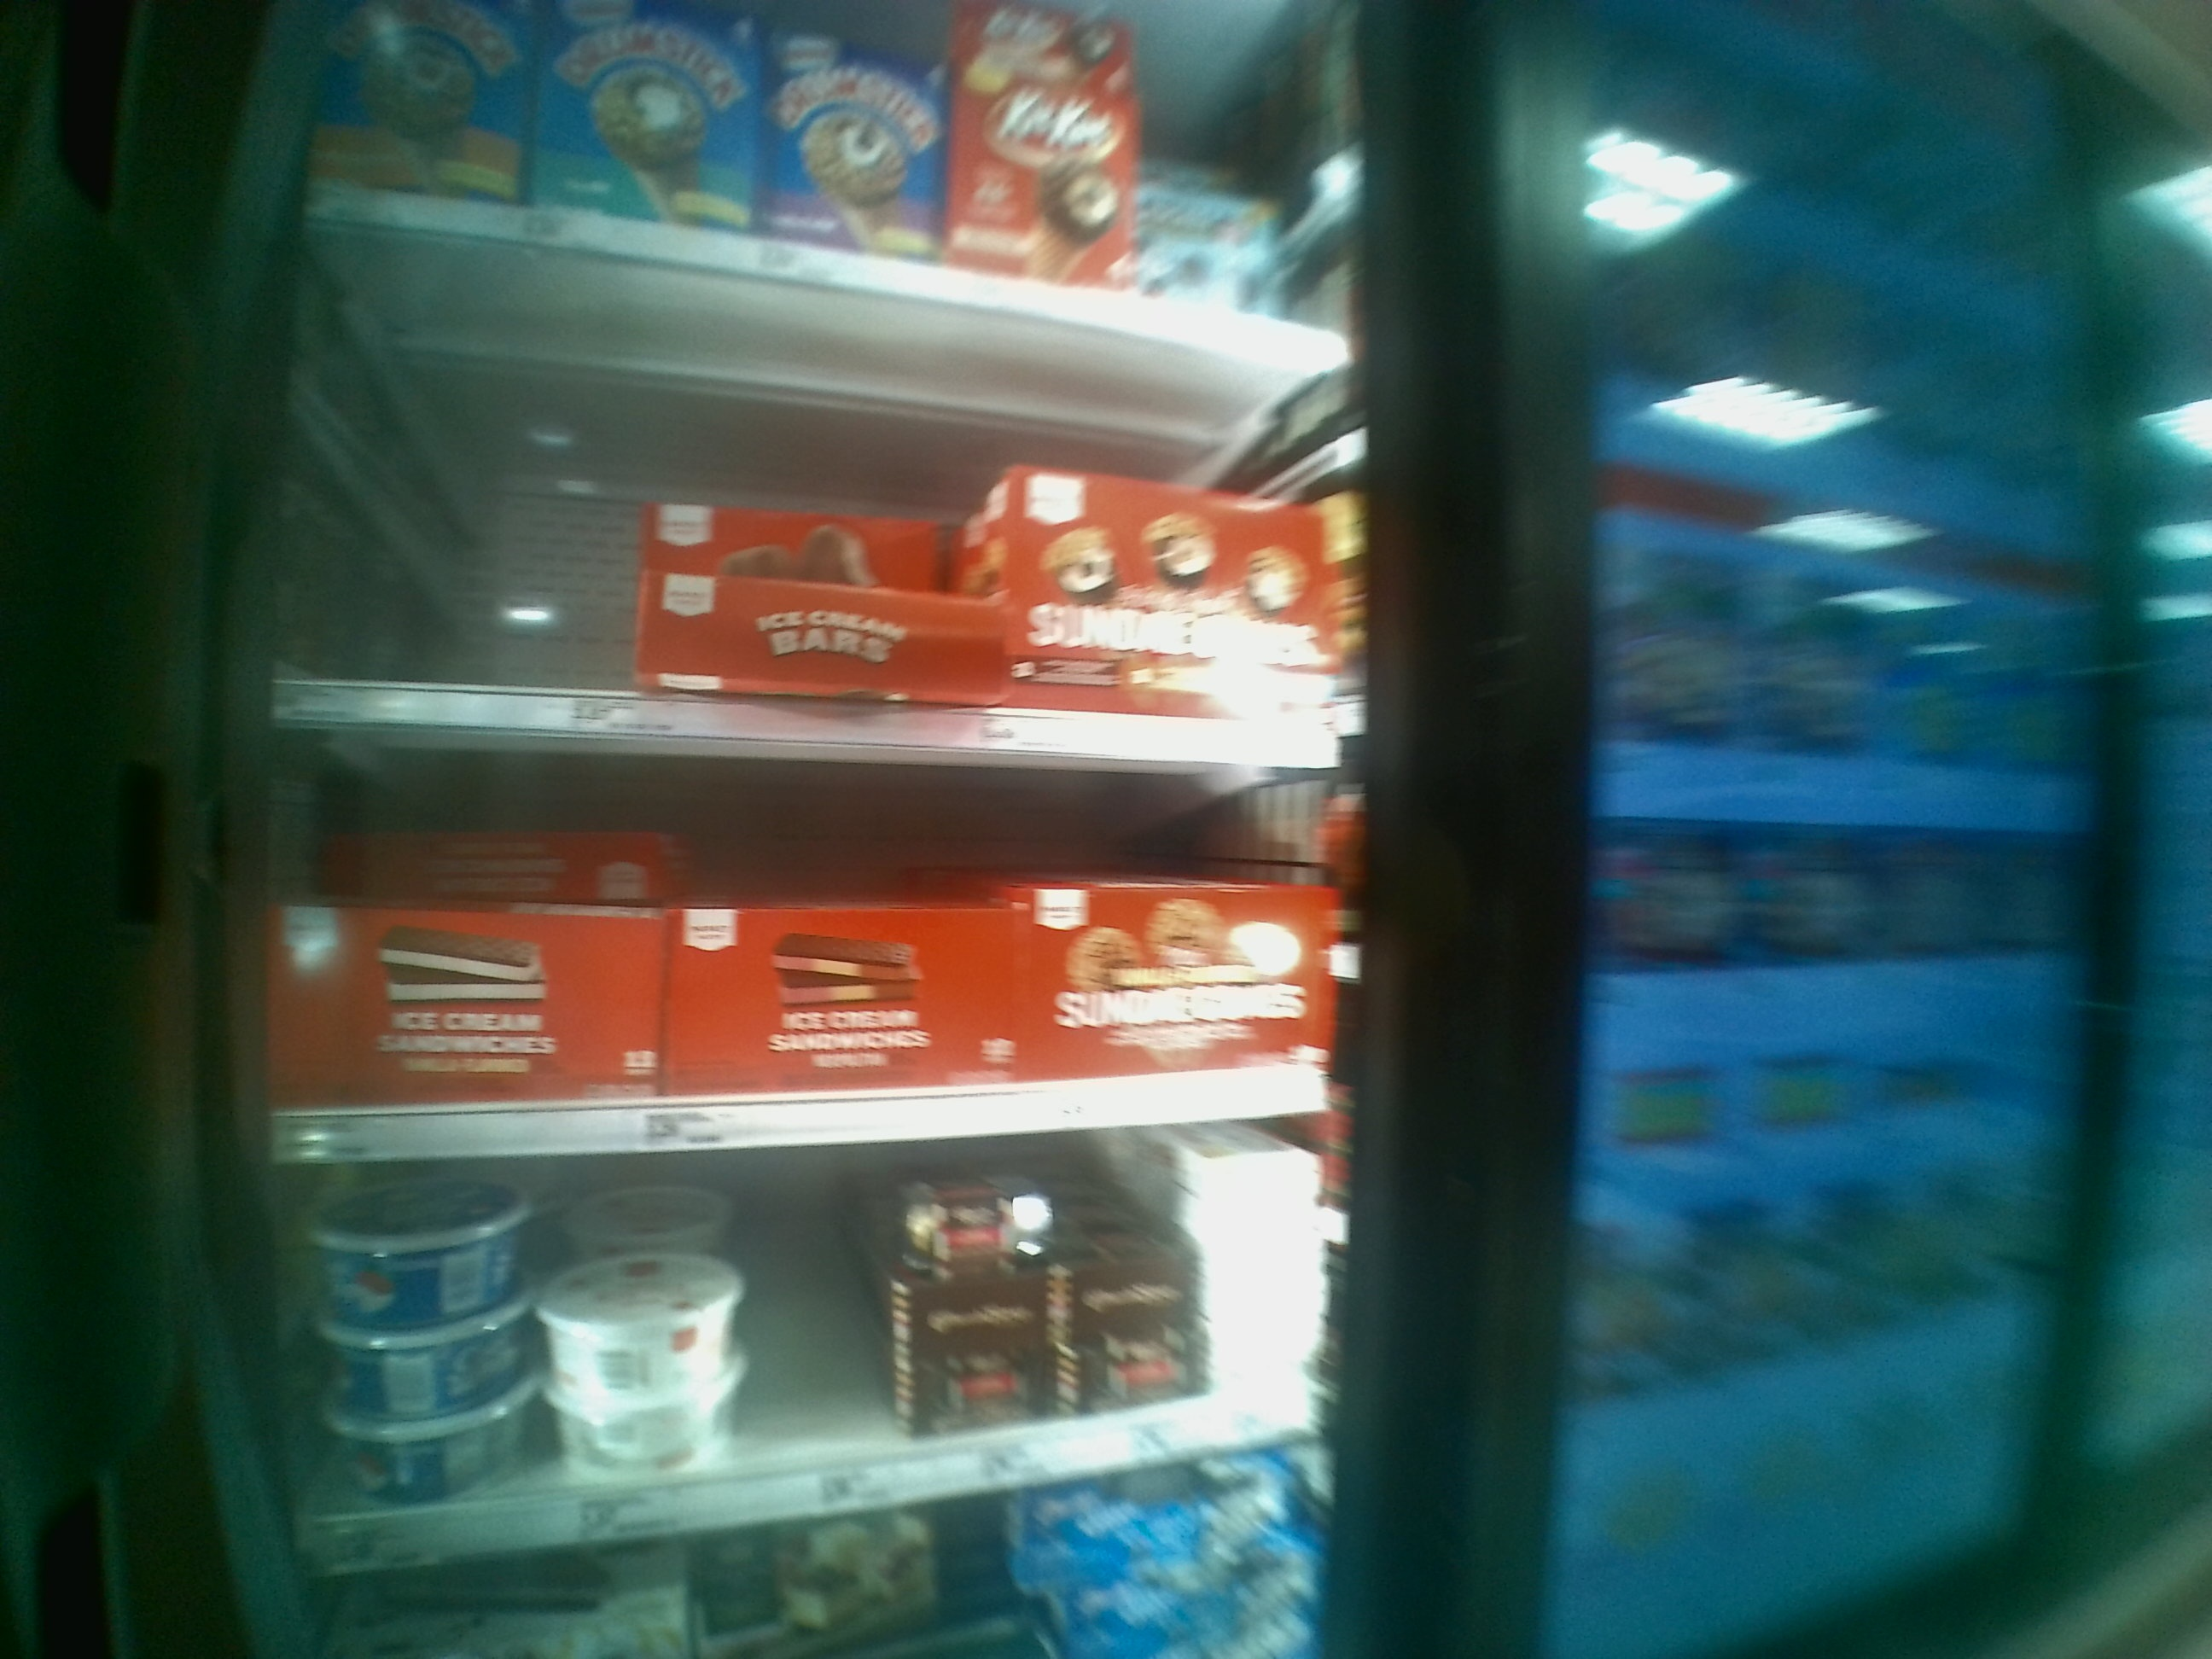shelf: (256, 227, 1439, 772), (240, 772, 1423, 1161), (235, 1159, 1435, 1493)
